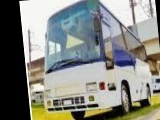bus: (36, 0, 156, 120)
